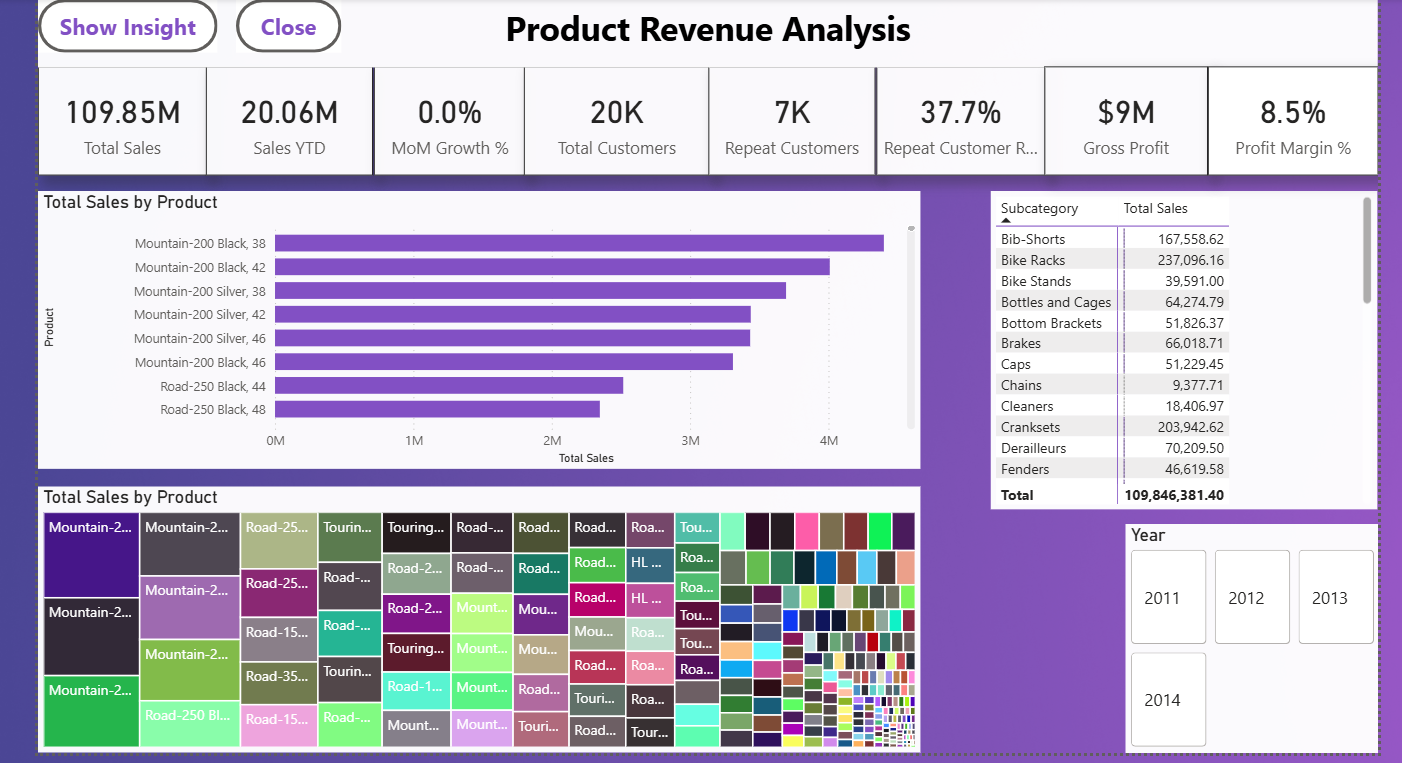

The dashboard page shown, as its layout file describes it:
{"tool":"powerbi","page":{"name":"Product Revenue Analysis","canvas":[1280,720],"ordinal":2},"visuals":[{"type":"card","fields":{"Values":["FactSales.Total Sales"]},"box":[0,65.1,161,104.1],"z":0},{"type":"card","fields":{"Values":["FactSales.Sales YTD"]},"box":[161,65.1,159.4,104.1],"z":1000},{"type":"card","fields":{"Values":["FactSales.MoM Growth %"]},"box":[320.4,65.1,144.8,104.1],"z":2000},{"type":"card","fields":{"Values":["FactSales.Total Customers"]},"box":[463.6,65.1,177.3,104.1],"z":3000},{"type":"card","fields":{"Values":["FactSales.Repeat Customers"]},"box":[640.9,65.1,159.4,104.1],"z":4000},{"type":"card","fields":{"Values":["FactSales.Repeat Customer Rate %"]},"box":[800.3,65.1,161,104.1],"z":5000},{"type":"clusteredBarChart","fields":{"Category":["DimProduct.Product"],"Y":["FactSales.Total Sales"]},"box":[0,183.8,842.5,265.1],"z":6000},{"type":"treemap","fields":{"Details":["DimProduct.Product"],"Values":["FactSales.Total Sales"]},"box":[0,465.2,842.5,253.7],"z":7000},{"type":"pivotTable","fields":{"Rows":["DimProduct.Subcategory"],"Values":["FactSales.Total Sales"]},"box":[909.2,183.8,369.2,304.2],"z":8000},{"type":"advancedSlicerVisual","fields":{"Values":["DimDate.Year"]},"box":[1038.5,501.3,242.1,219.2],"z":9000},{"type":"textbox","box":[0,0,1279.5,65.1],"z":10000},{"type":"card","fields":{"Values":["FactSales.Gross Profit"]},"box":[961.3,65.1,156.1,104.1],"z":11000},{"type":"card","fields":{"Values":["FactSales.Profit Margin %"]},"box":[1117.4,65.1,162.7,104.1],"z":12000},{"type":"actionButton","box":[0,0,171.5,51.1],"z":15000},{"type":"actionButton","box":[189.7,0,100.6,51.1],"z":16000}]}

Visuals, with their boxes in screenshot pixels (x1, y1, x2, y2):
card - FactSales.Total Sales: detection(33, 64, 201, 173)
card - FactSales.Sales YTD: detection(201, 64, 368, 173)
card - FactSales.MoM Growth %: detection(368, 64, 519, 173)
card - FactSales.Total Customers: detection(517, 64, 703, 173)
card - FactSales.Repeat Customers: detection(703, 64, 869, 173)
card - FactSales.Repeat Customer Rate %: detection(869, 64, 1038, 173)
clusteredBarChart - DimProduct.Product x FactSales.Total Sales: detection(33, 188, 913, 466)
treemap - DimProduct.Product x FactSales.Total Sales: detection(33, 483, 913, 748)
pivotTable - DimProduct.Subcategory x FactSales.Total Sales: detection(983, 188, 1369, 506)
advancedSlicerVisual - DimDate.Year: detection(1118, 520, 1371, 749)
textbox: detection(33, 0, 1370, 64)
card - FactSales.Gross Profit: detection(1038, 64, 1201, 173)
card - FactSales.Profit Margin %: detection(1201, 64, 1371, 173)
actionButton: detection(33, 0, 212, 50)
actionButton: detection(231, 0, 336, 50)
